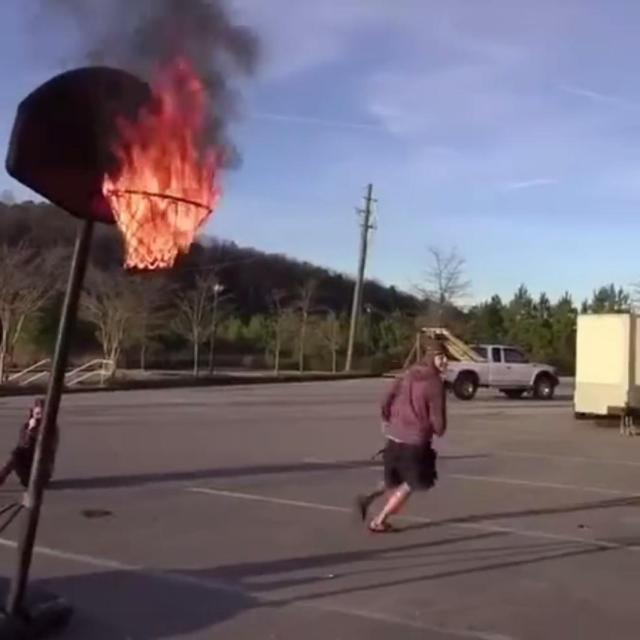Fire: (100, 63, 222, 273)
Smoke: (28, 1, 262, 170)
